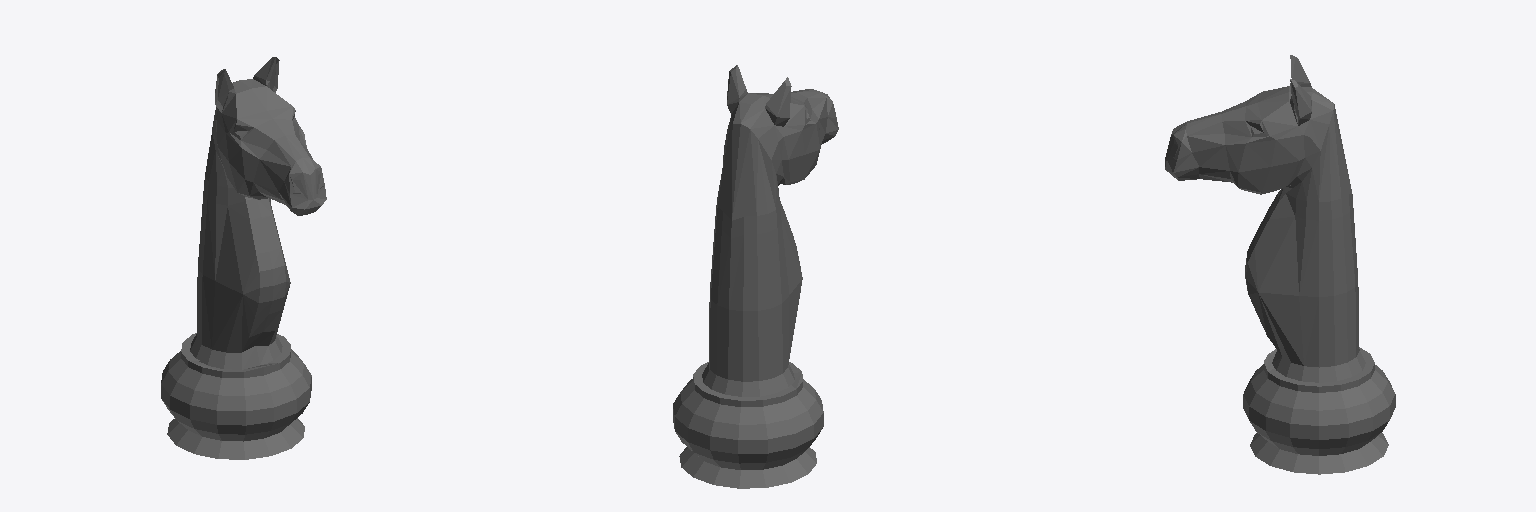
File: knight.obj
The picture shows the model from 3 angles: view 1: azimuth 30°, elevation 25°; view 2: azimuth 150°, elevation 25°; view 3: azimuth 270°, elevation 25°; orthographic projection.
Visible parts, largest first — view 1: Knight; view 2: Knight; view 3: Knight.
Part boxes in pixels (left/top/right/bottom): Knight: left=161, top=57, right=326, bottom=459; Knight: left=673, top=65, right=838, bottom=488; Knight: left=1165, top=55, right=1395, bottom=474.
Bounding box in the file's own units: 1.07 × 2.93 × 1.62.